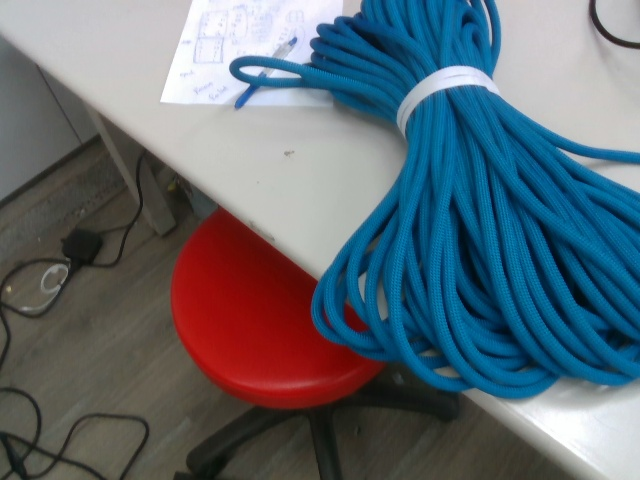rope: (225, 1, 640, 402)
